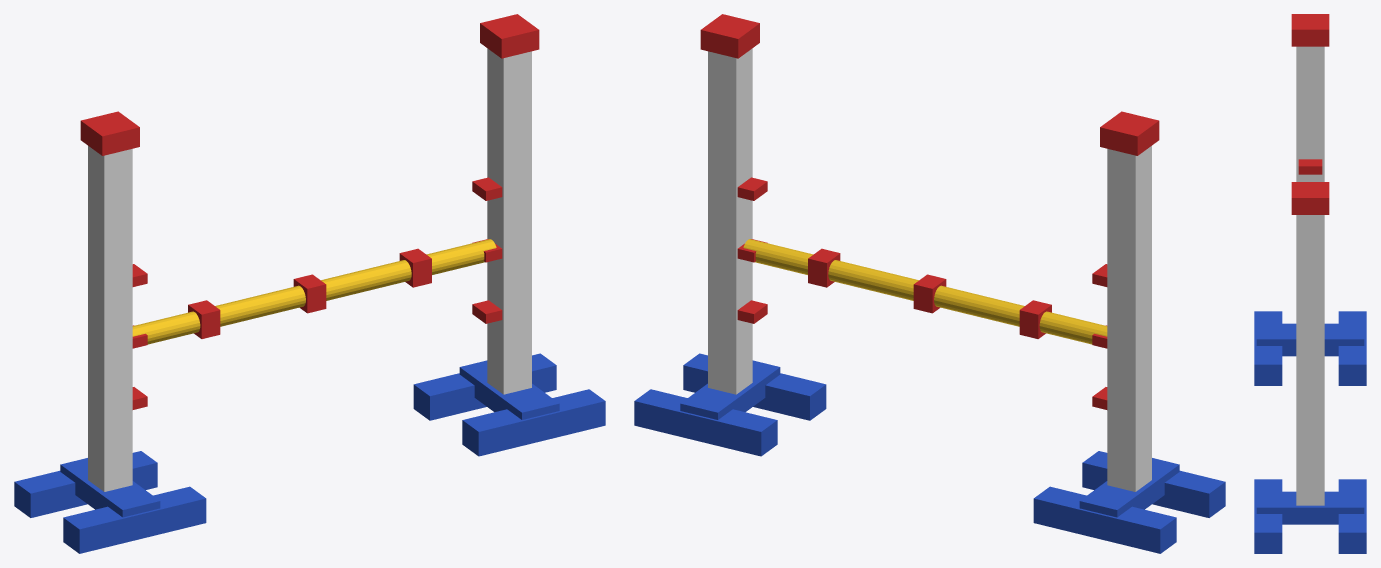
Rendered from dog_bar_jump.obj.
3 renders of one model, left to right at view 1: azimuth 30°, elevation 25°; view 2: azimuth 150°, elevation 25°; view 3: azimuth 270°, elevation 25°, orthographic. The views are drawn at different scales.
Parts seen in each view (by area): view 1: upright_-0.85, upright_0.85, jump_bar_main, foot_back_-0.85, foot_back_0.85, foot_front_-0.85, foot_front_0.85, cross_0.85, cross_-0.85, cap_-0.85, cap_0.85, band_0.0 (+2 smaller); view 2: upright_-0.85, upright_0.85, jump_bar_main, foot_front_-0.85, foot_front_0.85, foot_back_-0.85, foot_back_0.85, cross_0.85, cross_-0.85, cap_-0.85, cap_0.85, band_0.0 (+2 smaller); view 3: upright_0.85, upright_-0.85, cross_0.85, cross_-0.85, foot_front_-0.85, foot_back_-0.85, foot_front_0.85, foot_back_0.85, cap_-0.85, cap_0.85, left_cup_0.95.
Boxes of the visible parts, <box> form: upright_-0.85: <box>88,146,132,491</box>; upright_0.85: <box>487,48,531,394</box>; jump_bar_main: <box>132,239,496,344</box>; foot_back_-0.85: <box>63,486,206,553</box>; foot_back_0.85: <box>462,389,605,456</box>; foot_front_-0.85: <box>14,451,157,517</box>; foot_front_0.85: <box>413,353,556,420</box>; cross_0.85: <box>459,360,559,419</box>; cross_-0.85: <box>60,458,160,517</box>; cap_-0.85: <box>80,111,139,155</box>; cap_0.85: <box>480,14,539,58</box>; band_0.0: <box>293,274,326,313</box>; upright_-0.85: <box>1107,146,1151,491</box>; upright_0.85: <box>708,48,752,394</box>; jump_bar_main: <box>743,239,1107,344</box>; foot_front_-0.85: <box>1033,486,1176,553</box>; foot_front_0.85: <box>634,389,777,456</box>; foot_back_-0.85: <box>1082,451,1225,517</box>; foot_back_0.85: <box>683,353,826,420</box>; cross_0.85: <box>680,360,780,419</box>; cross_-0.85: <box>1079,458,1179,517</box>; cap_-0.85: <box>1100,111,1159,155</box>; cap_0.85: <box>700,14,759,58</box>; band_0.0: <box>913,274,946,313</box>; upright_0.85: <box>1296,215,1324,505</box>; upright_-0.85: <box>1296,46,1324,181</box>; cross_0.85: <box>1256,491,1364,524</box>; cross_-0.85: <box>1256,323,1364,356</box>; foot_front_-0.85: <box>1338,311,1366,385</box>; foot_back_-0.85: <box>1254,311,1282,385</box>; foot_front_0.85: <box>1338,479,1366,553</box>; foot_back_0.85: <box>1254,479,1282,553</box>; cap_-0.85: <box>1291,14,1329,46</box>; cap_0.85: <box>1291,182,1329,214</box>; left_cup_0.95: <box>1298,159,1322,174</box>.
Size of the model in its own units: 2.24 by 1.59 by 0.48.
